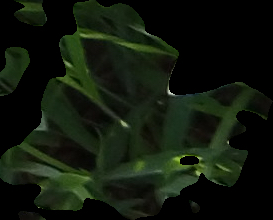grass: (1, 1, 272, 219)
